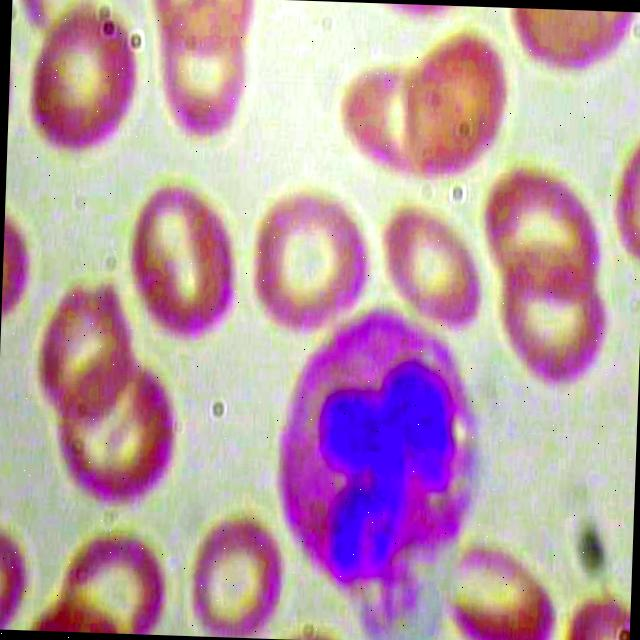RBC: (49, 342, 189, 513), (114, 174, 248, 346), (482, 232, 614, 397), (388, 26, 518, 190), (243, 174, 370, 332), (24, 0, 140, 171), (474, 158, 606, 302), (140, 0, 270, 146), (332, 60, 463, 192), (32, 278, 141, 434), (373, 194, 488, 334), (184, 504, 292, 640), (429, 529, 560, 640), (602, 114, 640, 275)
WBC: (264, 302, 496, 610)
